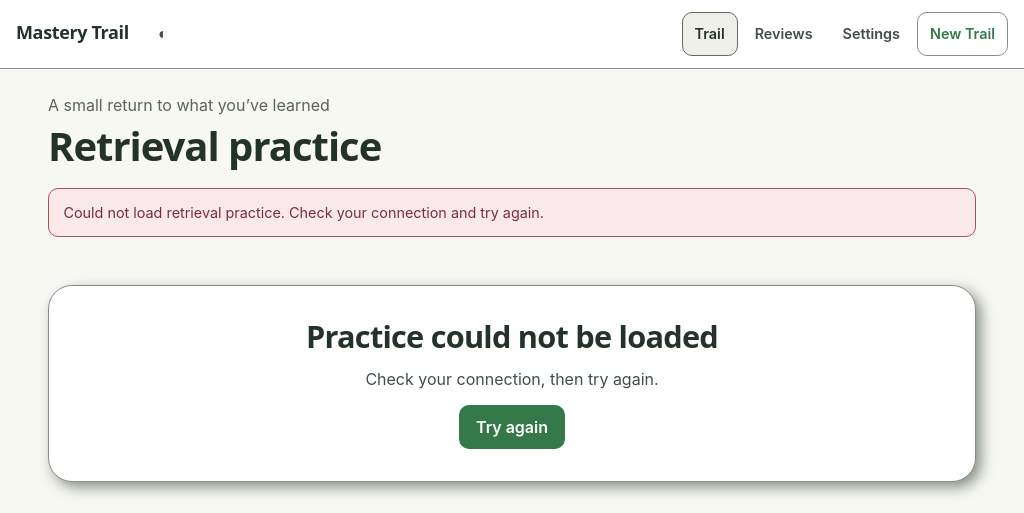
Test: ReviewQueue › replaces raw service errors with a retryable retrieval-practice message
Check: the heading "Practice could not be loaded" is shown, box [306,318,718,355]
Check: the message shows "Could not load retrieval practice", box [63,204,544,221]
Click the button "Try again".
click(512, 427)  # box [459,405,565,449]
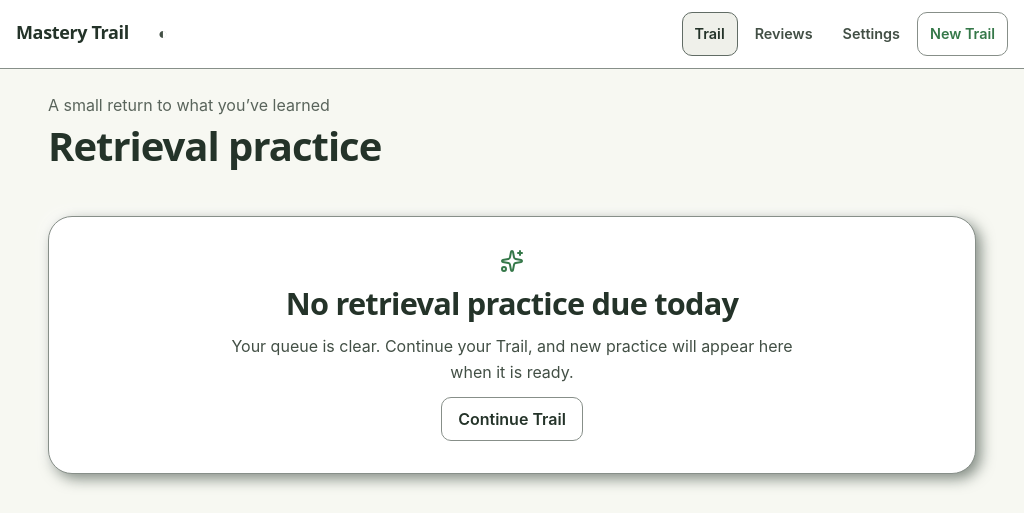
Check: the heading "No retrieval practice due today" is shown, box [286,285,738,322]
